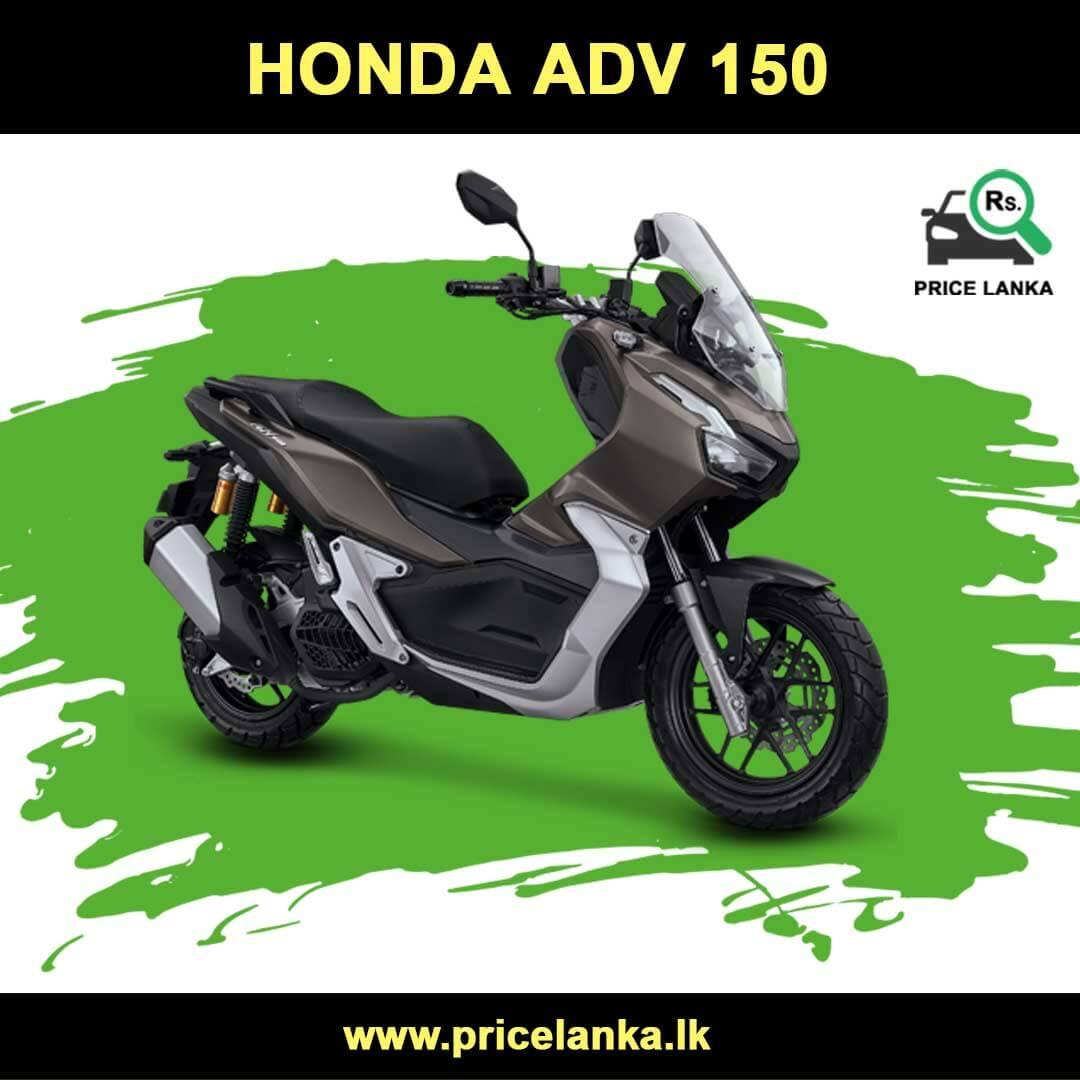motorbike: (143, 169, 887, 831)
